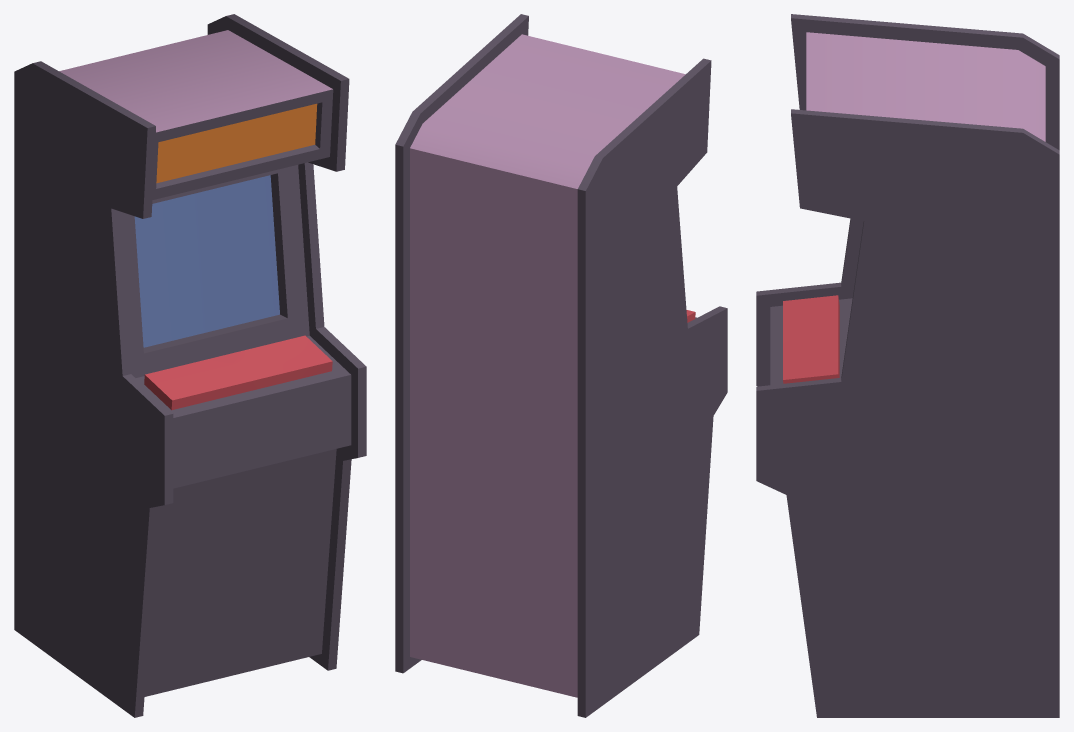
File: arcade_machine.fbx
3 renders of one model, left to right at view 1: azimuth 30°, elevation 25°; view 2: azimuth 150°, elevation 25°; view 3: azimuth 270°, elevation 25°, orthographic. The views are drawn at different scales.
Visible parts, largest first — view 1: arcade_machine; view 2: arcade_machine; view 3: arcade_machine.
Boxes of the visible parts, x1=… form: arcade_machine: x1=14, y1=14, x2=366, y2=717; arcade_machine: x1=395, y1=14, x2=727, y2=717; arcade_machine: x1=756, y1=14, x2=1059, y2=717.
Bounding box in the file's own units: 32.23 × 91.44 × 41.6.
